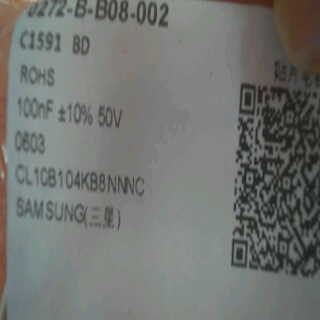100nF: (13, 92, 56, 125)
